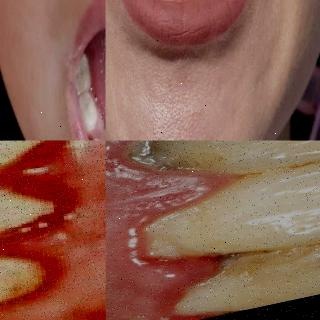Gum Swelling: (106, 140, 224, 320), (0, 140, 106, 320)
plaque: (135, 186, 249, 256), (113, 141, 264, 179), (168, 283, 252, 314), (210, 243, 282, 279)
